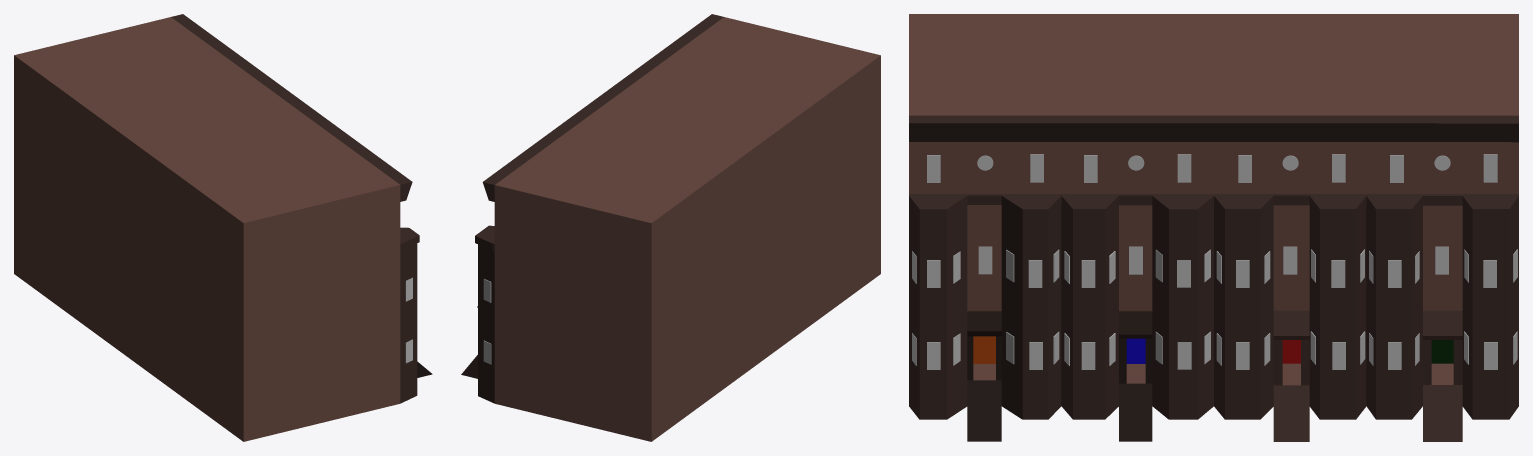
Rendered from HouseBlock.FBX.
3 renders of one model, left to right at view 1: azimuth 30°, elevation 25°; view 2: azimuth 150°, elevation 25°; view 3: azimuth 270°, elevation 25°, orthographic. The views are drawn at different scales.
Parts seen in each view (by area): view 1: Housing Block; view 2: Housing Block; view 3: Housing Block.
Boxes of the visible parts, x1,y1,x2,y2 form: Housing Block: [14, 14, 432, 441]; Housing Block: [461, 14, 880, 441]; Housing Block: [909, 14, 1518, 441].
Bounding box in the file's own units: 841 × 830 × 1578.
